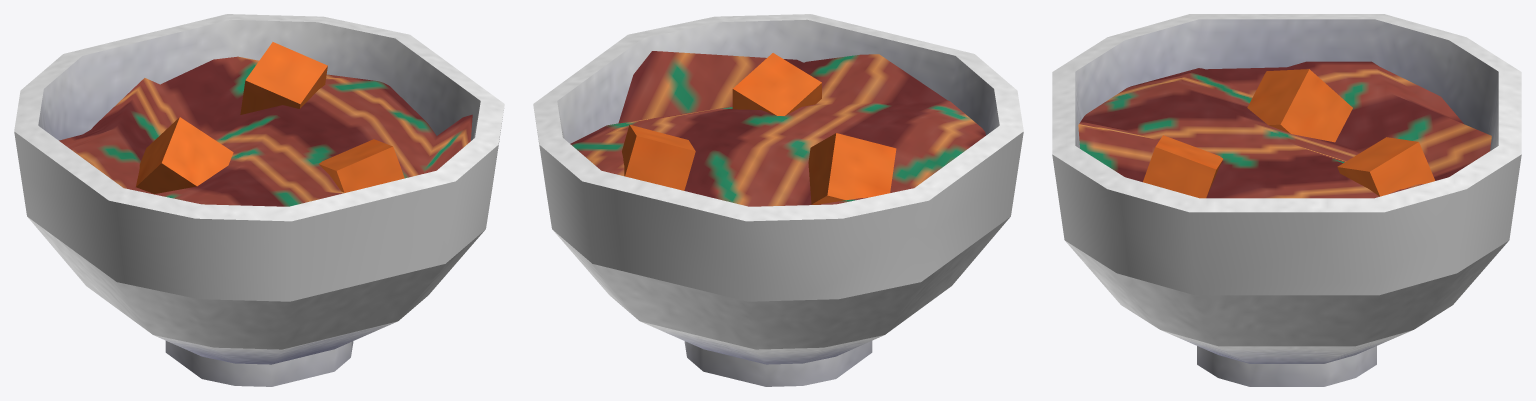
File: Soup_Cooked.fbx
3 renders of one model, left to right at view 1: azimuth 30°, elevation 25°; view 2: azimuth 150°, elevation 25°; view 3: azimuth 270°, elevation 25°, orthographic. The views are drawn at different scales.
Visible parts, largest first — view 1: Bowl_Cooked; view 2: Bowl_Cooked; view 3: Bowl_Cooked.
Boxes of the visible parts, x1,y1,x2,y2 form: Bowl_Cooked: (14,14,504,386); Bowl_Cooked: (533,14,1023,386); Bowl_Cooked: (1052,14,1521,386).
Bounding box in the file's own units: 73.59 × 42.54 × 73.59.
